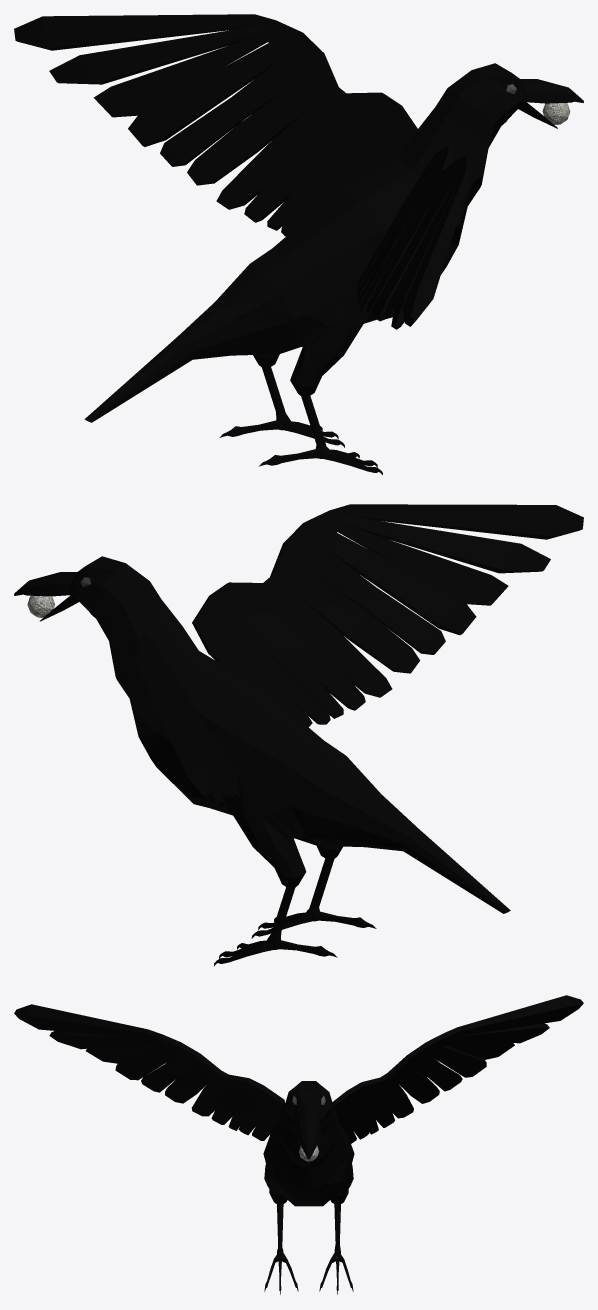
Rendered from crow_with_wings_slightly_up_stone.obj.
3 renders of one model, top to bottom at view 1: azimuth 30°, elevation 25°; view 2: azimuth 150°, elevation 25°; view 3: azimuth 270°, elevation 25°, orthographic. The views are drawn at different scales.
Visible parts, largest first — view 1: Cylinder.001; view 2: Cylinder.001; view 3: Cylinder.001.
Part boxes in pixels (x1,y1,x2,y2): Cylinder.001: (14, 14, 583, 474); Cylinder.001: (14, 504, 583, 965); Cylinder.001: (14, 995, 583, 1294).
Size of the model in its own units: 1.52 by 1.06 by 2.05.
